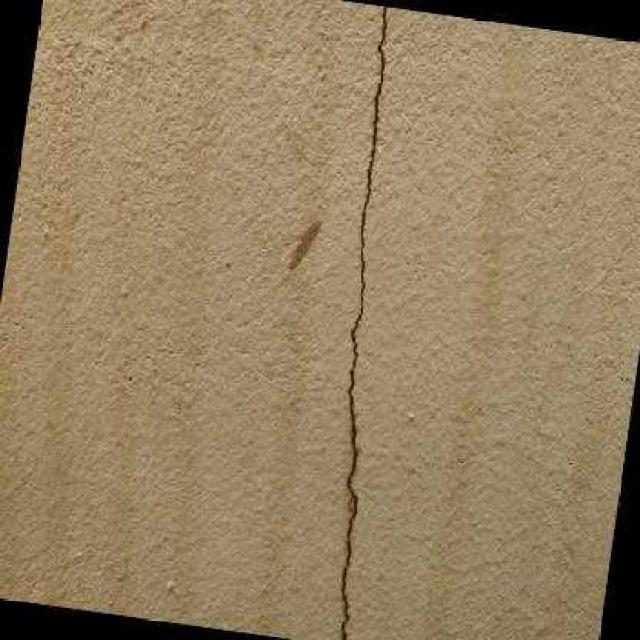D00: (338, 6, 388, 640)
